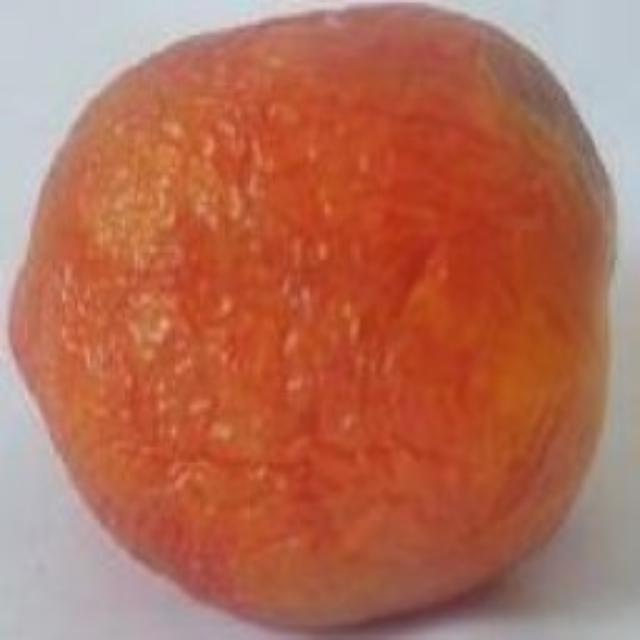defect: (11, 6, 617, 639)
